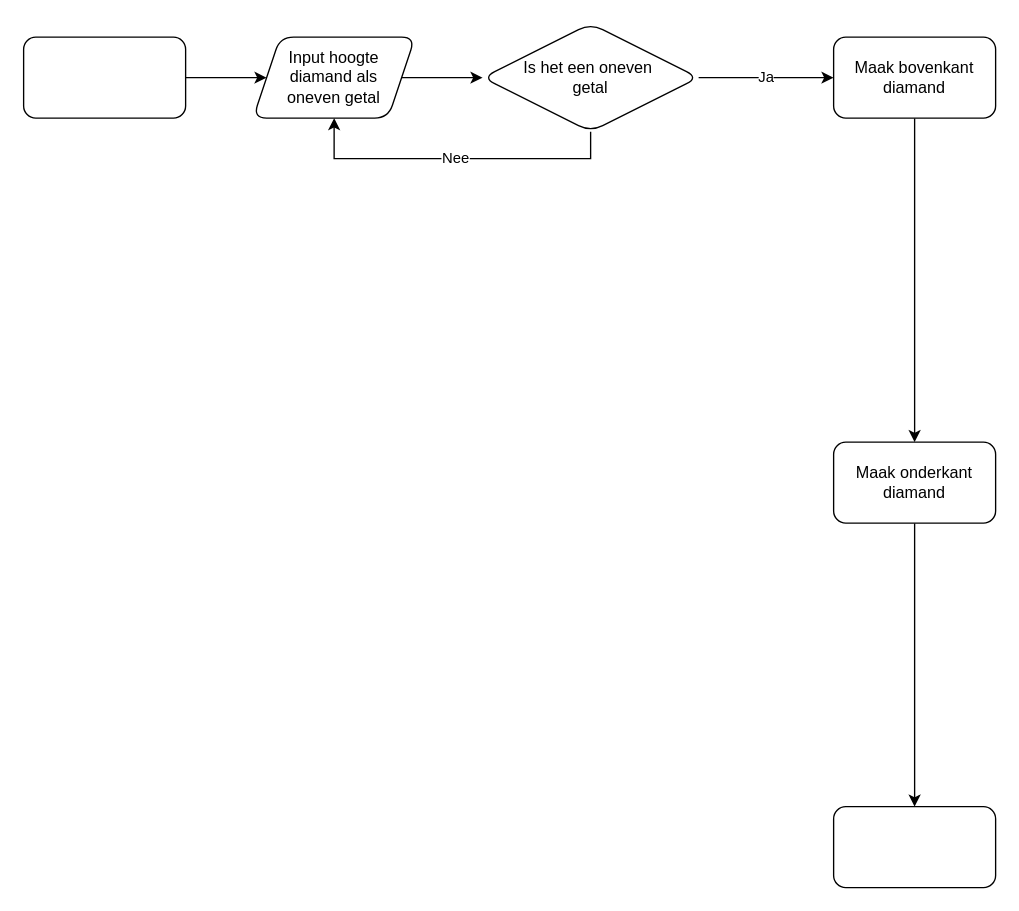
Image size: 1019x911. Some labels were removed from this diagram. The centre of each missing label's shape, as x and y in pixels:
"Diamand klaar" belongs at (914,846).
"Start teken diamand" belongs at (104,77).
